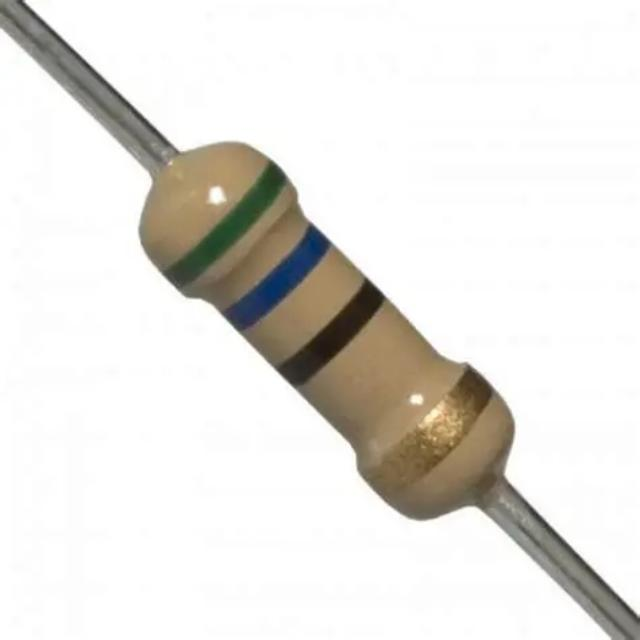black: (276, 280, 391, 392)
blue: (222, 226, 335, 338)
gold: (365, 363, 499, 509)
green: (161, 160, 293, 294)
resistor: (92, 92, 564, 555)
